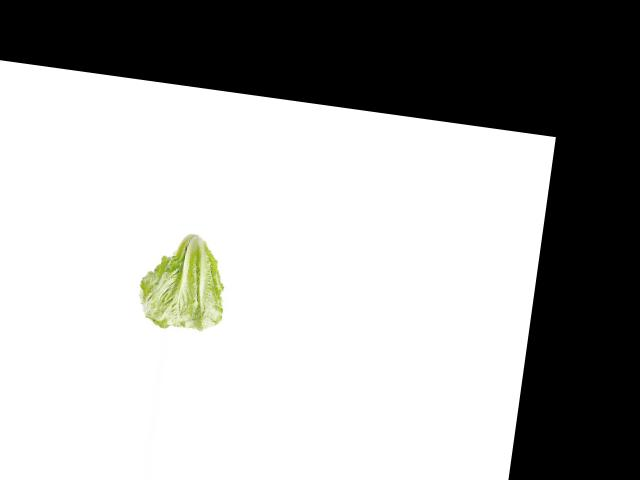lettuce: (131, 222, 230, 337)
